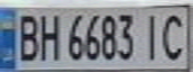3: (115, 10, 139, 61)
6: (81, 10, 103, 62), (63, 9, 84, 61)
8: (100, 10, 121, 61)
B: (12, 10, 42, 62)
C: (157, 9, 193, 62)
H: (33, 9, 63, 62)
I: (139, 9, 166, 61)
